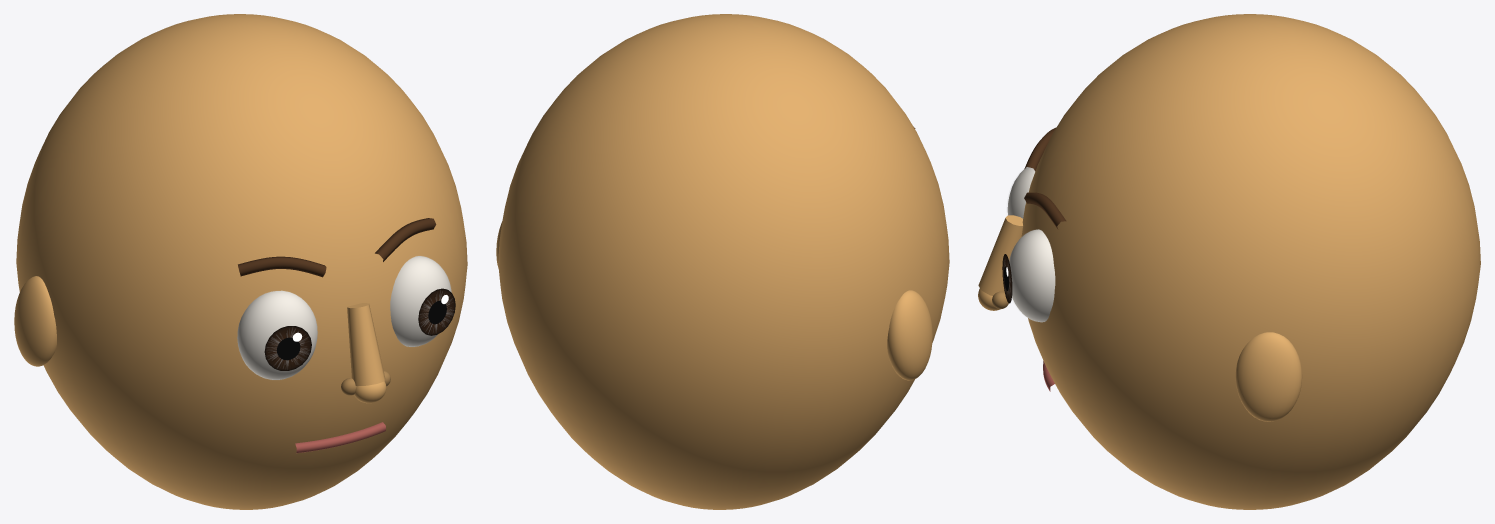
Rendered from 10-plaques-d-identite.glb.
3 views of the same model, side by side, from view 1: azimuth 30°, elevation 25°; view 2: azimuth 150°, elevation 25°; view 3: azimuth 270°, elevation 25° (orthographic).
Size of what is drawn, in the model's own units: 0.3087 by 0.321 by 0.3166.
Materials: 9 (1 with a texture image).
